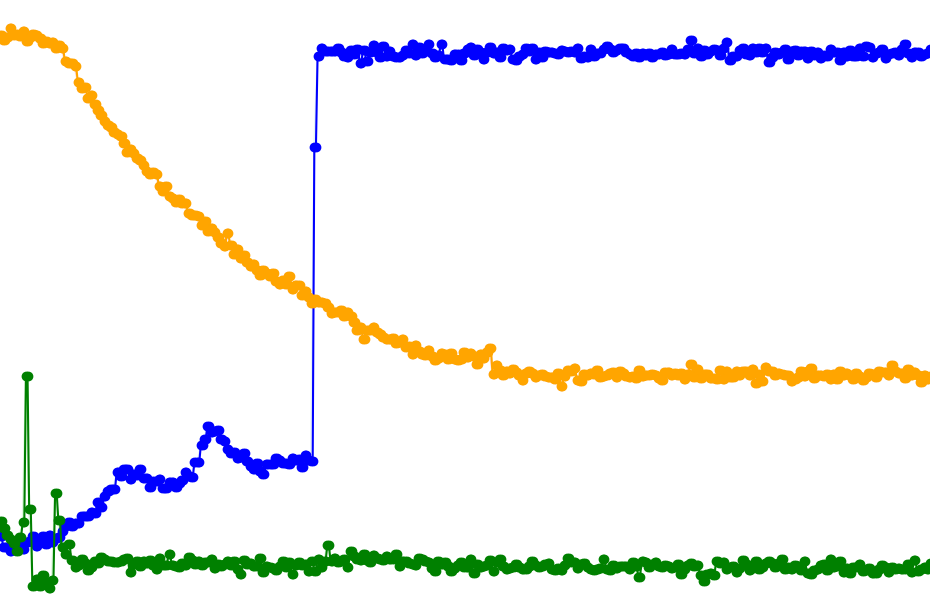CO2 Problem: (311, 0, 583, 616), (349, 0, 583, 616), (777, 0, 930, 616), (661, 0, 777, 616), (77, 0, 155, 616), (155, 0, 233, 616), (233, 0, 311, 616), (583, 0, 661, 616), (0, 0, 77, 616)
Condensation CO2: (349, 0, 544, 616), (777, 0, 930, 616), (661, 0, 777, 616), (77, 0, 155, 616), (155, 0, 233, 616), (583, 0, 661, 616), (544, 0, 583, 616), (311, 0, 349, 616)
Condensation O2: (661, 0, 777, 616), (583, 0, 661, 616)
High CO2: (311, 0, 544, 616), (777, 0, 930, 616), (77, 0, 155, 616), (155, 0, 233, 616), (233, 0, 311, 616), (0, 0, 77, 616)
High O2: (311, 0, 661, 616), (777, 0, 930, 616), (661, 0, 777, 616)
Low CO2: (311, 0, 661, 616), (661, 0, 777, 616), (77, 0, 155, 616), (155, 0, 233, 616), (233, 0, 311, 616), (583, 0, 661, 616), (0, 0, 77, 616)
Low O2: (661, 0, 930, 616), (777, 0, 930, 616)
Normal: (77, 0, 661, 616), (311, 0, 661, 616), (311, 0, 622, 616), (311, 0, 583, 616), (661, 0, 930, 616), (77, 0, 311, 616), (349, 0, 583, 616), (311, 0, 544, 616), (349, 0, 544, 616), (77, 0, 233, 616), (155, 0, 311, 616), (0, 0, 155, 616), (777, 0, 930, 616), (661, 0, 777, 616), (77, 0, 155, 616), (155, 0, 233, 616), (233, 0, 311, 616), (583, 0, 661, 616), (0, 0, 77, 616), (661, 0, 738, 616), (311, 0, 349, 616)
O2 Problem: (777, 0, 930, 616), (661, 0, 777, 616), (583, 0, 661, 616), (544, 0, 583, 616)
